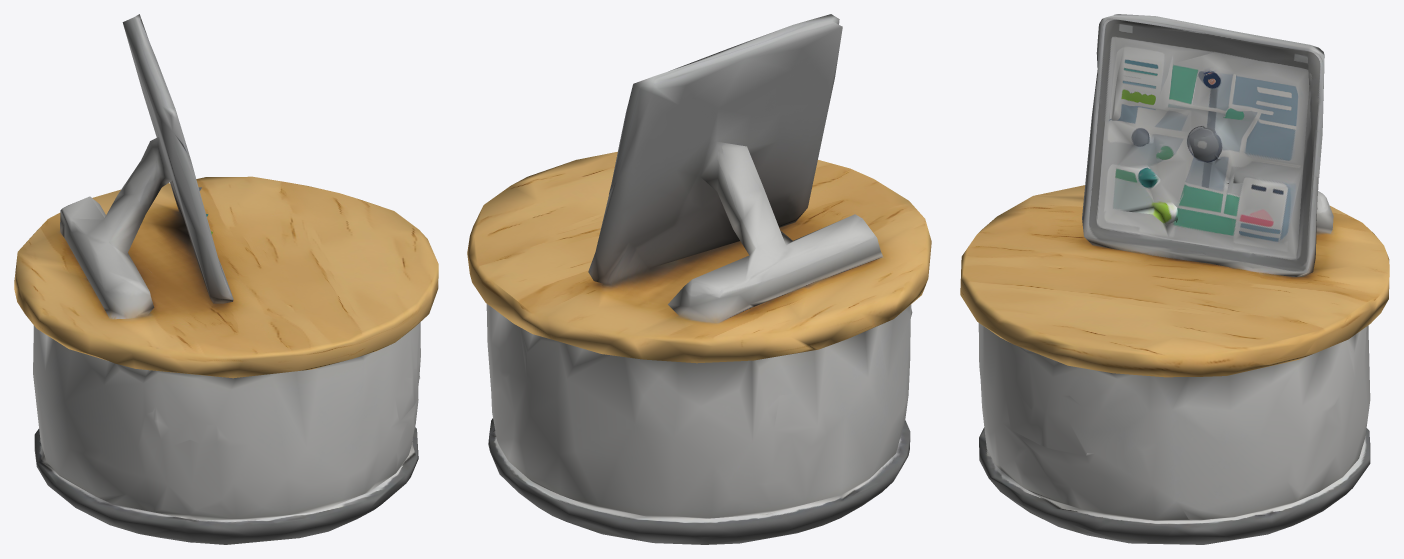
Rendered from kiosk.glb.
The picture shows the model from 3 angles, left to right: view 1: azimuth 30°, elevation 25°; view 2: azimuth 150°, elevation 25°; view 3: azimuth 270°, elevation 25°; orthographic projection. The views are drawn at different scales.
Visible parts, largest first — view 1: tripo_node_92a0f4dd-ac6d-4d37-b731-b3e9c668487e; view 2: tripo_node_92a0f4dd-ac6d-4d37-b731-b3e9c668487e; view 3: tripo_node_92a0f4dd-ac6d-4d37-b731-b3e9c668487e.
Part boxes in pixels (bbox=[...]): tripo_node_92a0f4dd-ac6d-4d37-b731-b3e9c668487e: bbox=[14, 14, 438, 544]; tripo_node_92a0f4dd-ac6d-4d37-b731-b3e9c668487e: bbox=[467, 14, 931, 544]; tripo_node_92a0f4dd-ac6d-4d37-b731-b3e9c668487e: bbox=[960, 14, 1389, 544].
Bounding box in the file's own units: 0.9288 × 1 × 0.9278.
1 material, 1 textured.
